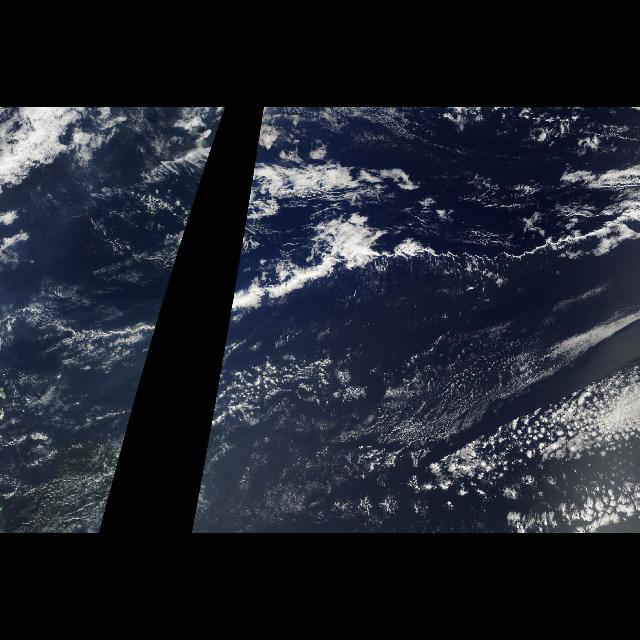Fish: (270, 118, 638, 326)
Flower: (424, 381, 636, 529)
Sugar: (272, 386, 422, 524)
